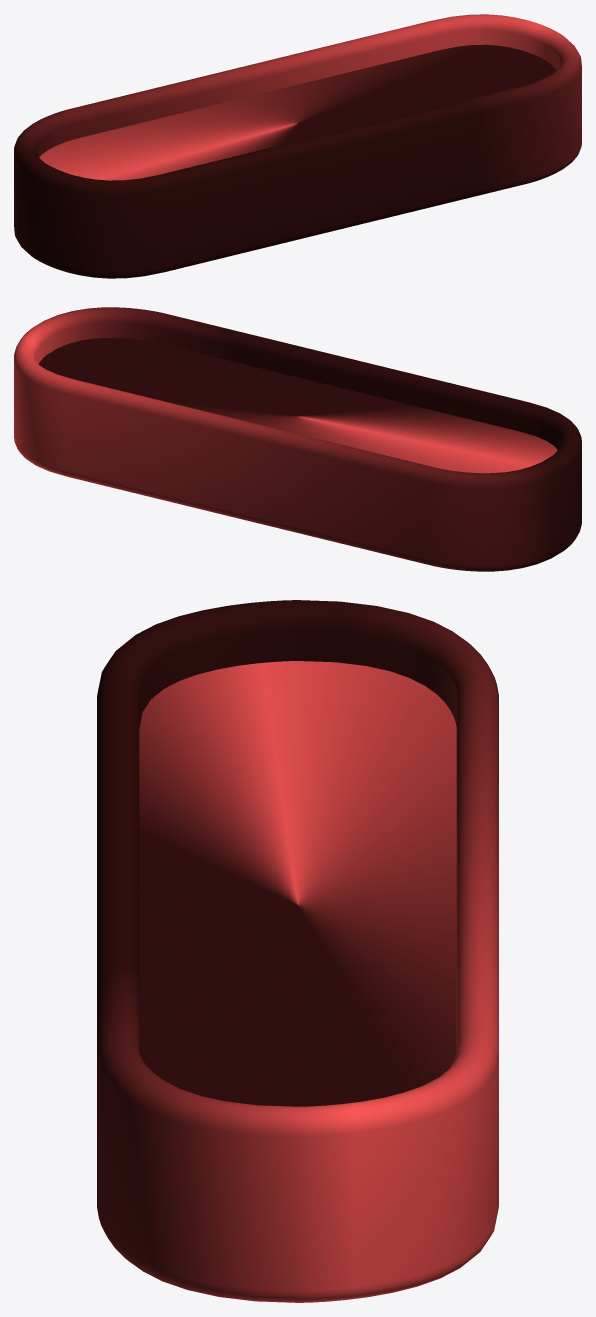
File: Paddle-22.dae
The picture shows the model from 3 angles, top to bottom: view 1: azimuth 30°, elevation 25°; view 2: azimuth 150°, elevation 25°; view 3: azimuth 270°, elevation 25°; orthographic projection. The views are drawn at different scales.
Parts seen in each view (by area): view 1: Paddle; view 2: Paddle; view 3: Paddle.
Boxes of the visible parts, x1=… form: Paddle: x1=14, y1=14, x2=581, y2=278; Paddle: x1=14, y1=307, x2=581, y2=571; Paddle: x1=97, y1=600, x2=498, y2=1302.
Size of the model in its own units: 0.2922 by 0.05 by 0.0946.
Materials: 2 (2 with a texture image).
